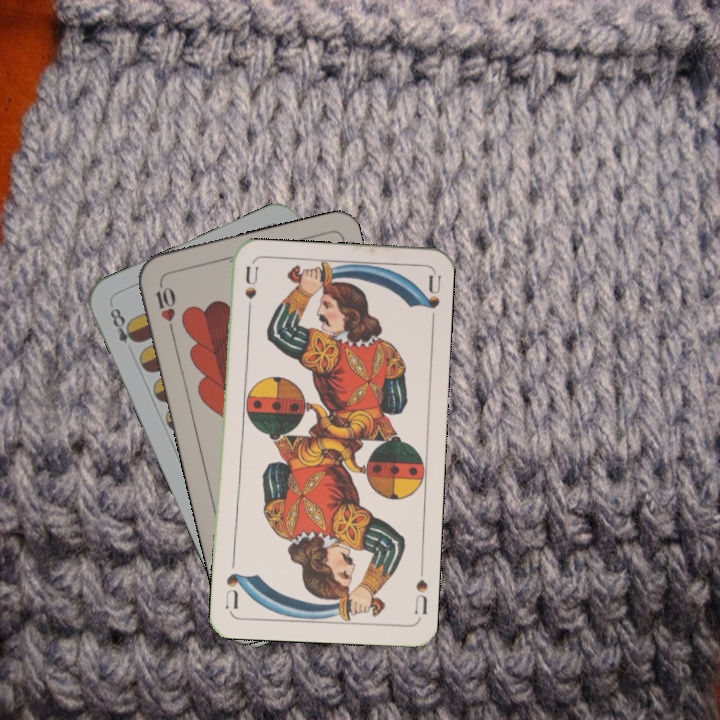E8: (105, 304, 141, 347)
H10: (152, 278, 178, 337)
SU: (240, 263, 260, 323), (411, 575, 430, 617)
